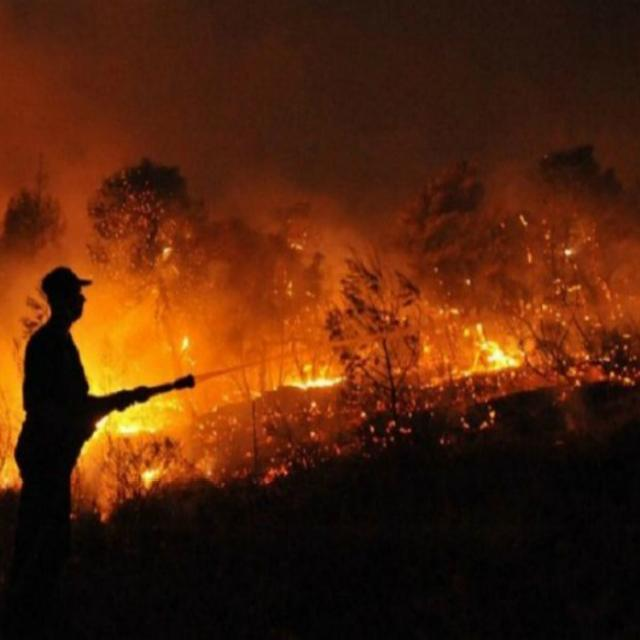Fire: (1, 339, 194, 456), (462, 332, 528, 379), (270, 360, 354, 390), (130, 456, 168, 492)
